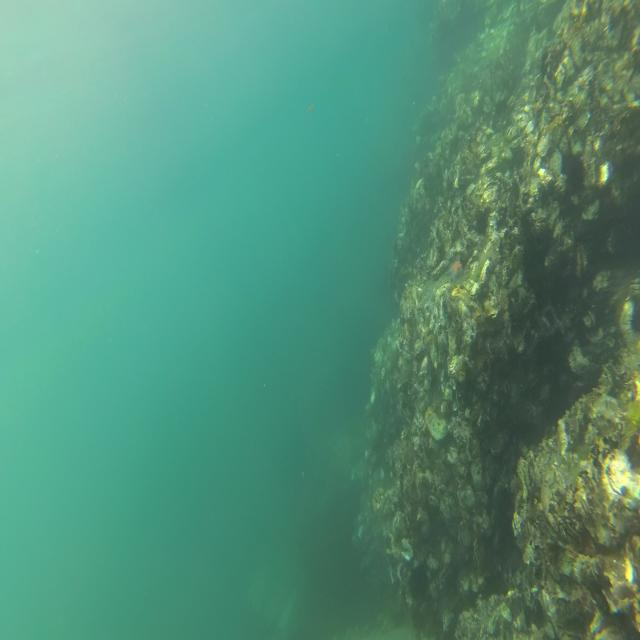echinus: (408, 561, 428, 601), (626, 308, 640, 337), (474, 216, 487, 237)
starfish: (446, 261, 465, 282)
